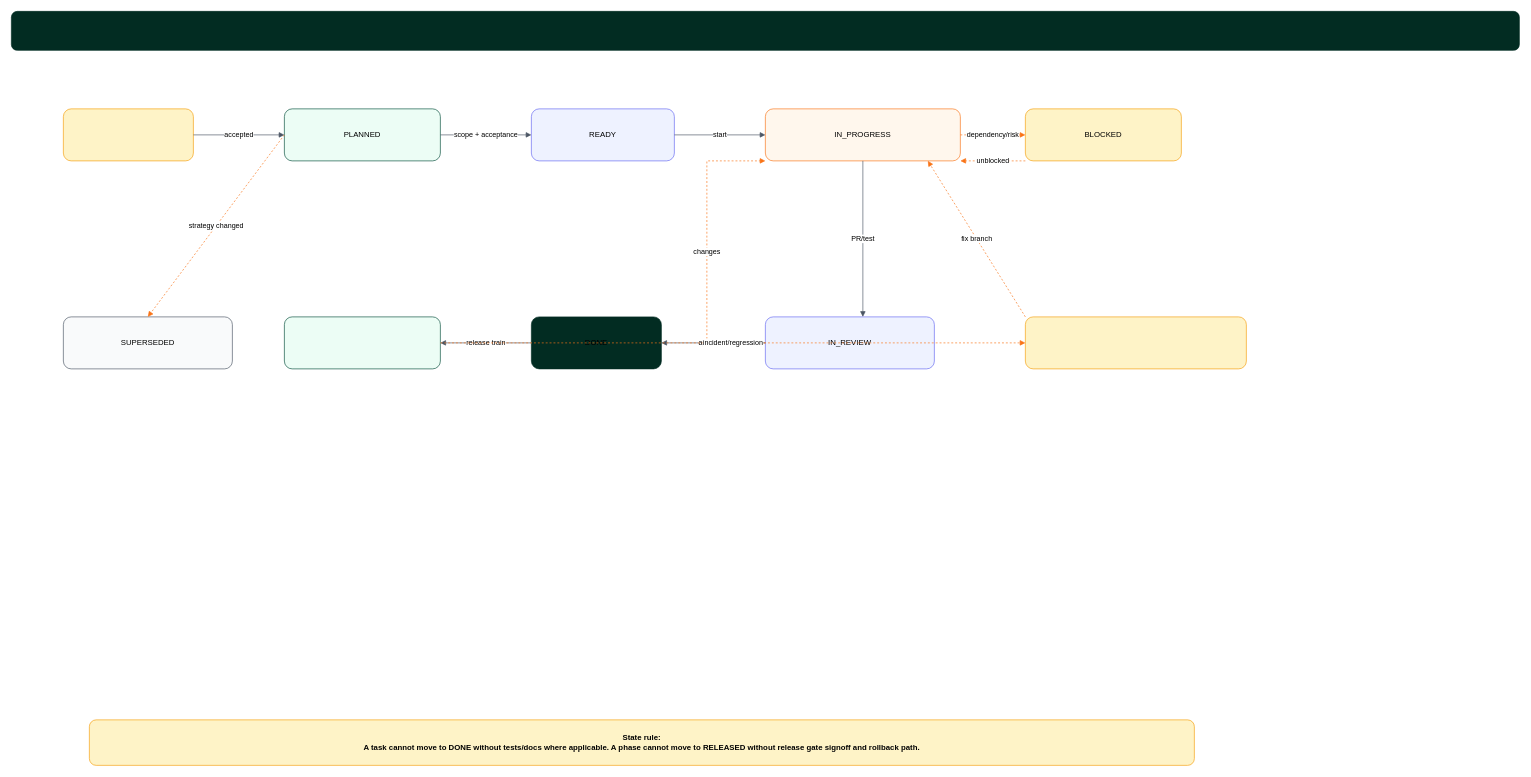
Image size: 1531x777. Some labels were removed from this diagram. Each missing label, with the centre of its shape:
HOTFIX_REQUIRED: point 1135,342
IDEA: point 128,134
RELEASED: point 362,342
Viaverse Phase / Task / Release State — State Diagram: point 765,30
